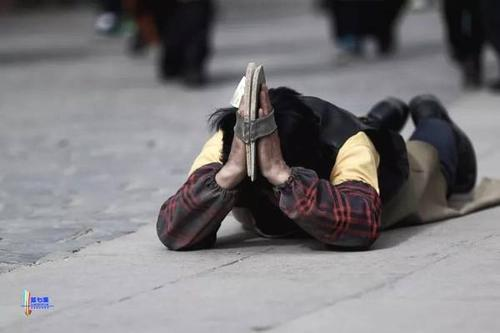fall: (161, 56, 485, 248)
